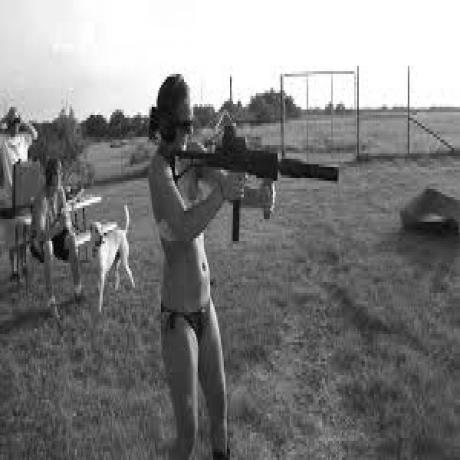Guns: (169, 122, 346, 240)
